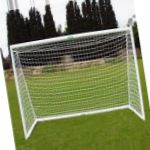goals: (9, 26, 147, 140)
